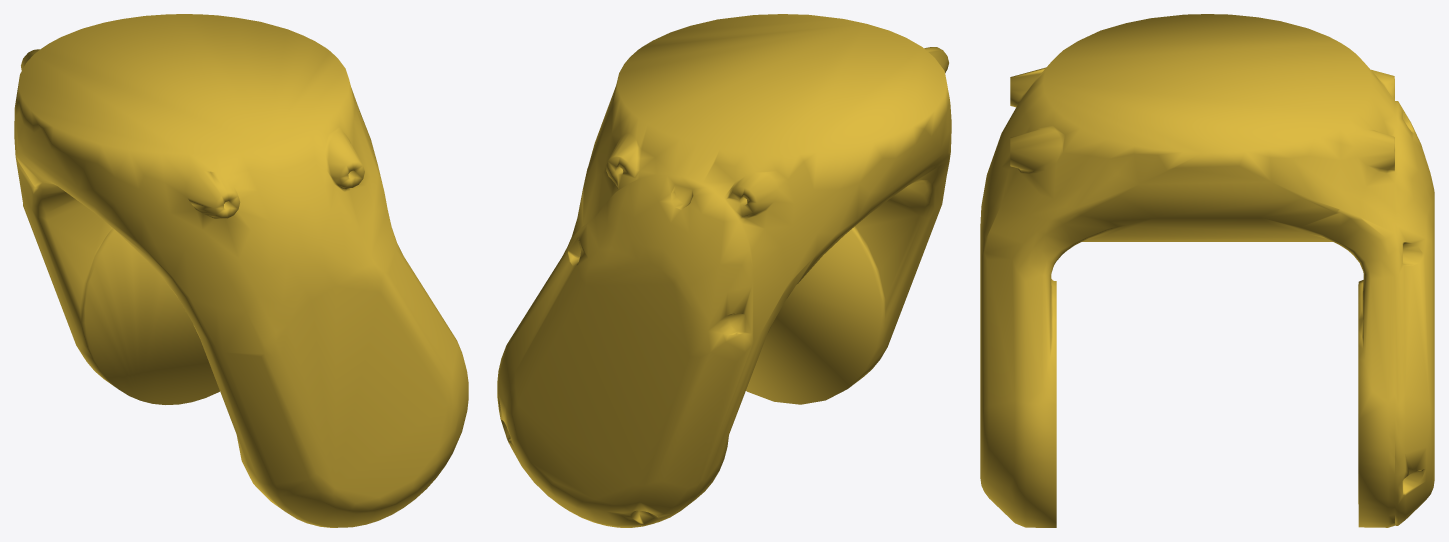
3 renders of one model, left to right at view 1: azimuth 30°, elevation 25°; view 2: azimuth 150°, elevation 25°; view 3: azimuth 270°, elevation 25°, orthographic.
Size of the model in its own units: 199 by 224 by 235.
